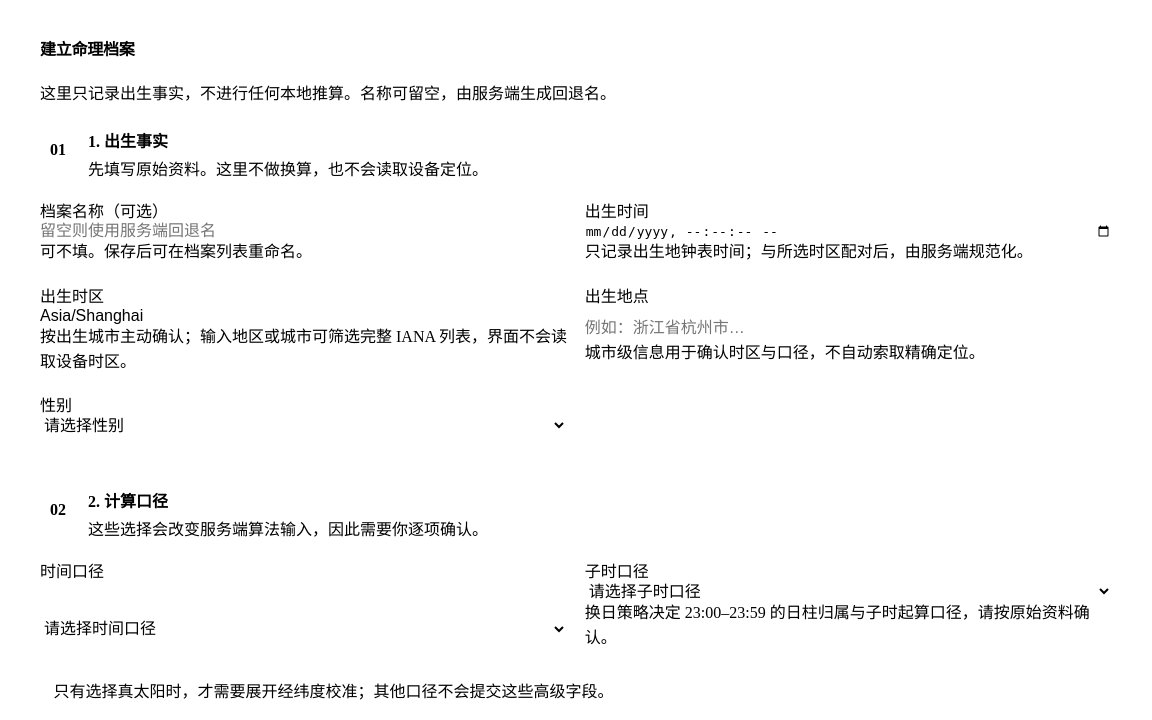
Test: ProfileForm › reveals coordinate calibration only for true solar time
Expected: the field labelled "经度（可选）" is not shown
Select "真太阳时" in the dropdown labelled "时间口径" at (304, 629), box [40,607,567,651]
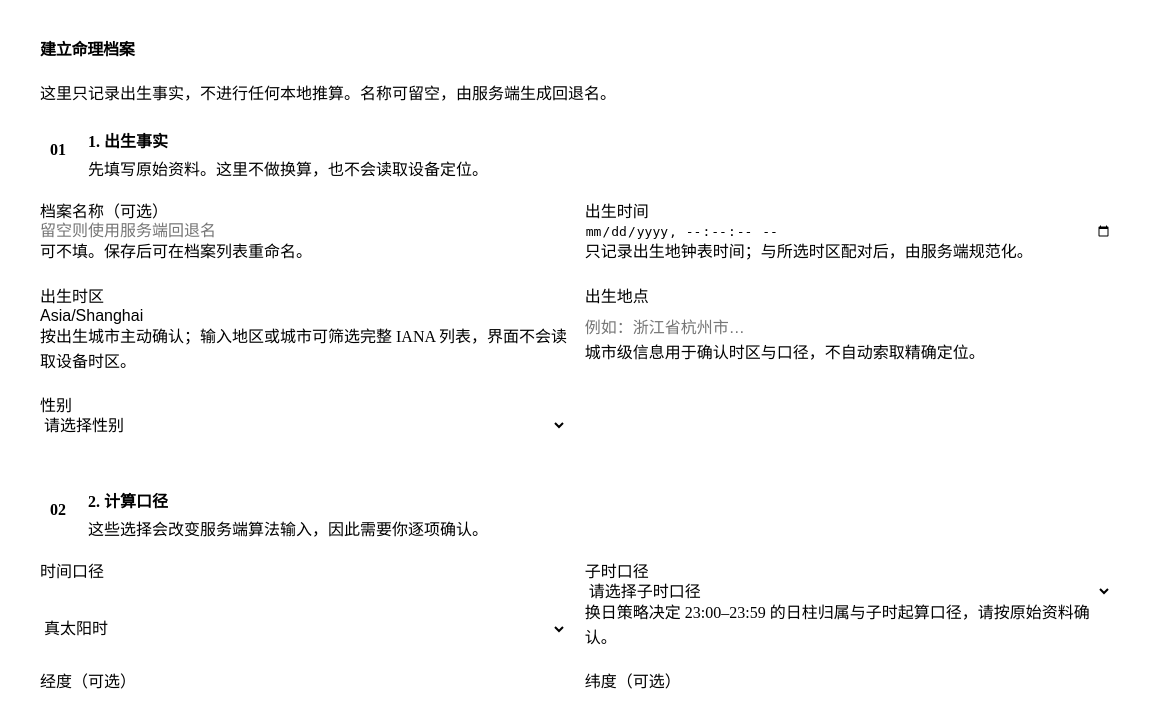
Select "民用时" in the dropdown labelled "时间口径" at (304, 629), box [40,607,567,651]
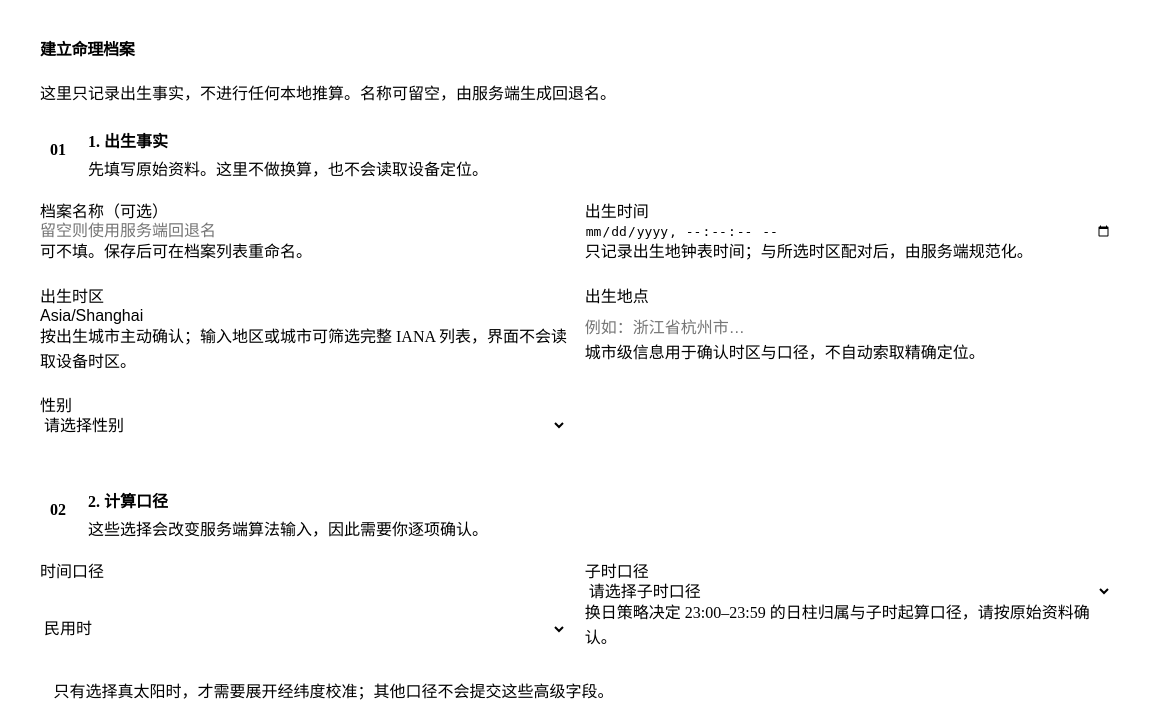
Expected: the label labelled "经度（可选）" is gone
